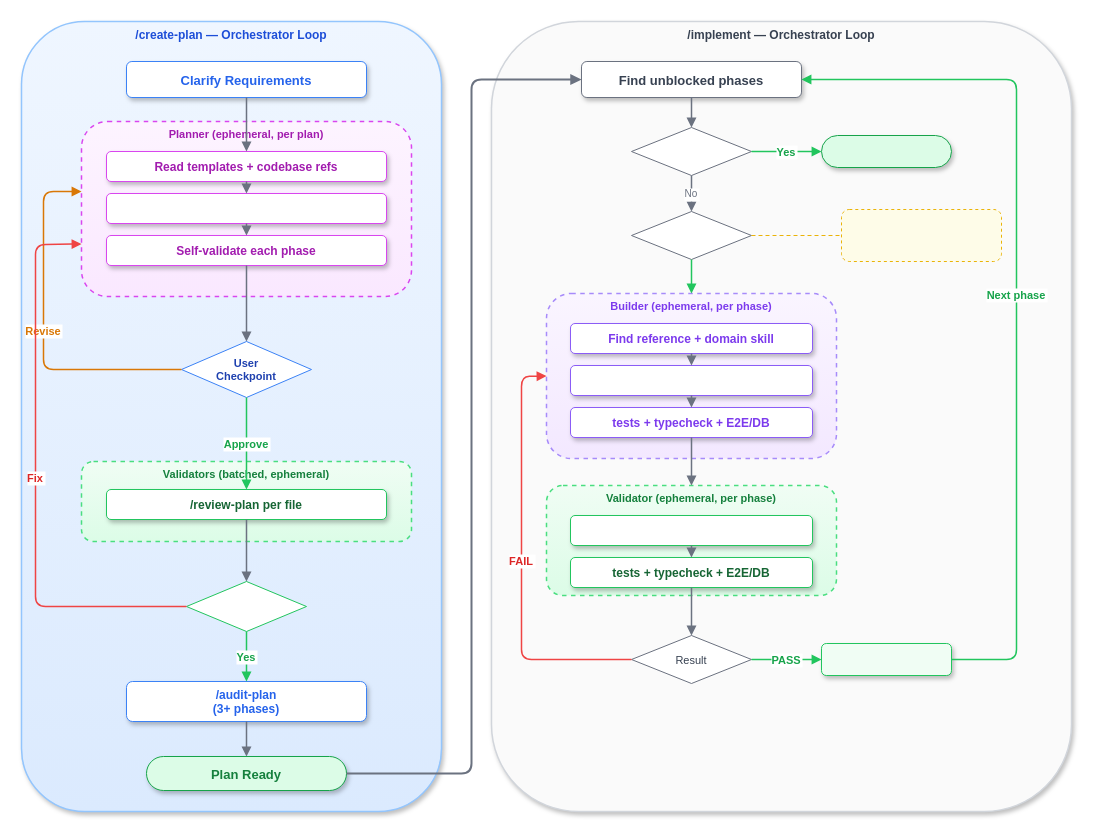
Some shapes in this 1096 by 837 pixel diagram are drawn without their labels. Each missing label, with the centre of its shape:
"/code-review + auto-fix" belongs at pixel 692 531.
"All done" belongs at pixel 887 152.
"All done?" belongs at pixel 691 151.
"Create plan.md + phases" belongs at pixel 247 209.
"Gate Checks No placeholders Phase review passes" belongs at pixel 921 235.
"Passes?" belongs at pixel 246 606.
"Phase done" belongs at pixel 887 660.
"Phase gate" belongs at pixel 691 235.
"TDD first, then implement" belongs at pixel 692 381.
